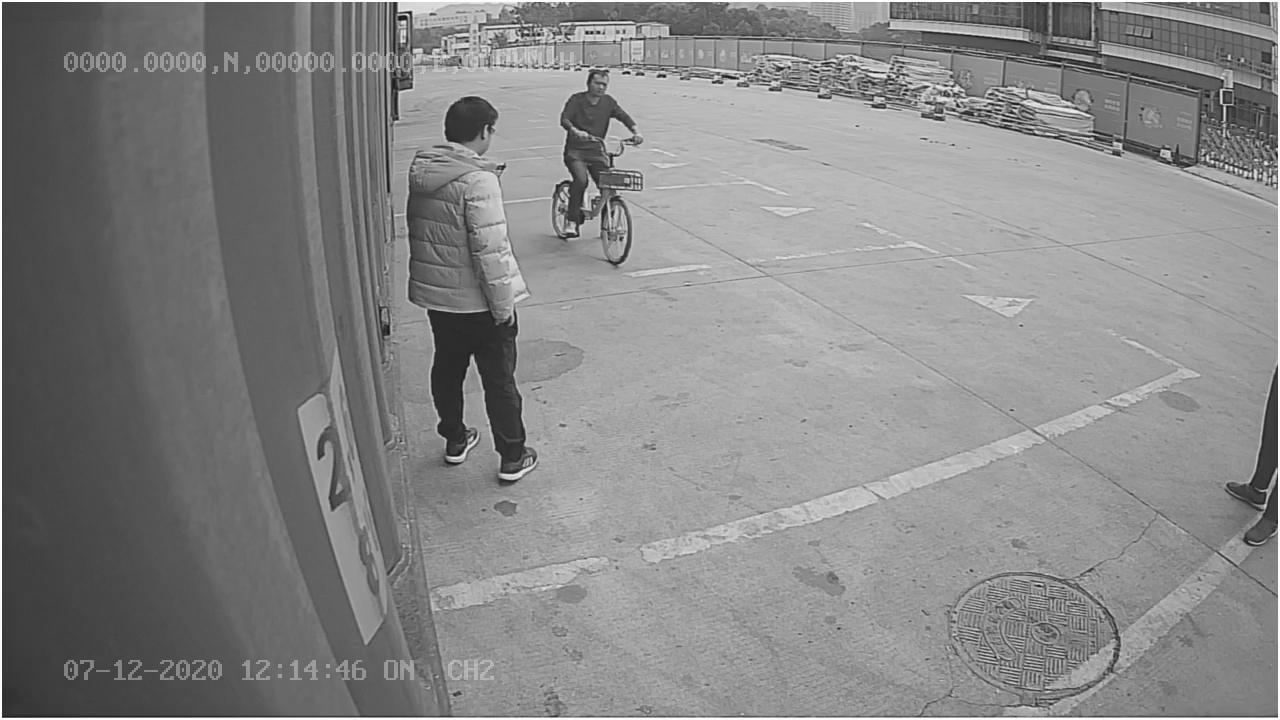person: (390, 95, 551, 490)
